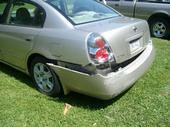rear-bumper-dent: (60, 56, 145, 86)
